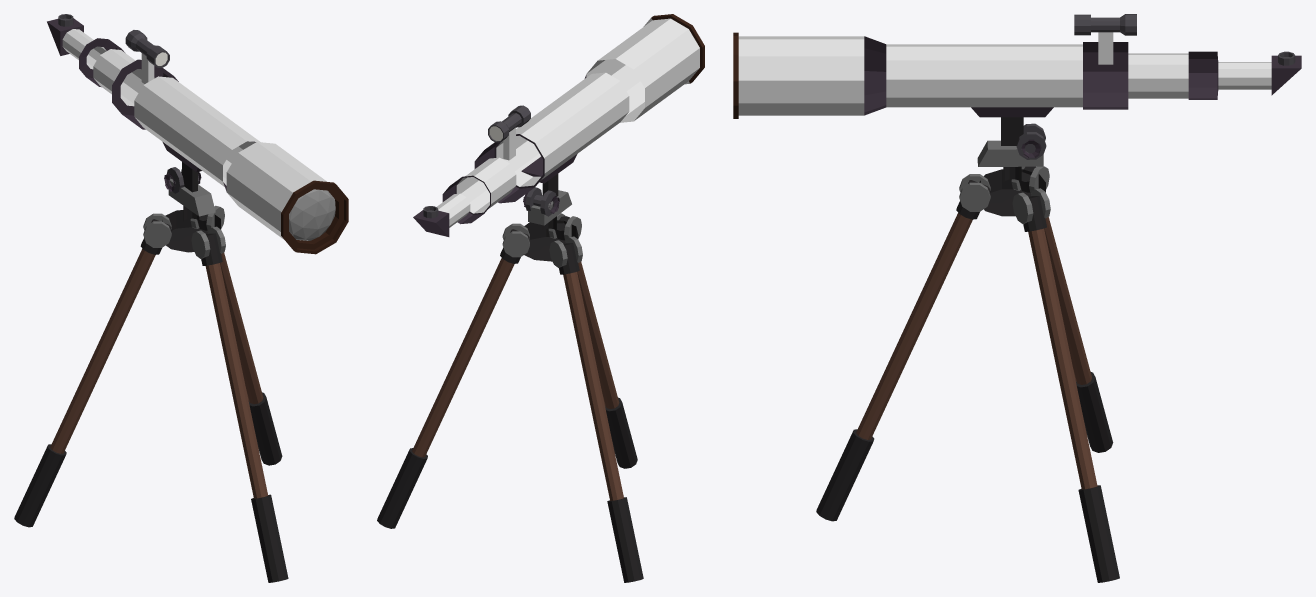
The model's file is telescope.glb.
The picture shows the model from 3 angles, left to right: view 1: azimuth 30°, elevation 25°; view 2: azimuth 150°, elevation 25°; view 3: azimuth 270°, elevation 25°; orthographic projection. The views are drawn at different scales.
Visible parts, largest first — view 1: Main, Leg3, Leg2, Leg1, Center; view 2: Main, Leg2, Leg1, Leg3, Center; view 3: Main, Leg1, Leg3, Leg2, Center.
Boxes of the visible parts, x1,y1,x2,y2 form: Main: [47, 14, 348, 254]; Leg3: [191, 226, 288, 582]; Leg2: [14, 213, 171, 527]; Leg1: [190, 205, 282, 465]; Center: [162, 206, 220, 252]; Main: [413, 14, 704, 236]; Leg2: [549, 236, 643, 582]; Leg1: [377, 223, 529, 528]; Leg3: [548, 213, 637, 468]; Center: [523, 216, 578, 261]; Main: [733, 14, 1301, 166]; Leg1: [1012, 188, 1119, 582]; Leg3: [816, 174, 990, 521]; Leg2: [1011, 166, 1113, 452]; Center: [979, 166, 1045, 216].
Bounding box in the file's own units: 8.49 × 13.7 × 14.06.
